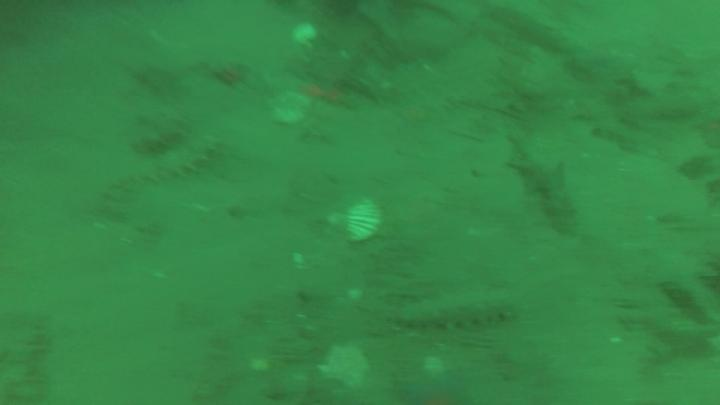holothurian: (113, 134, 222, 187), (397, 291, 519, 329)
scallop: (322, 197, 387, 246), (324, 346, 368, 389), (271, 91, 310, 126)
